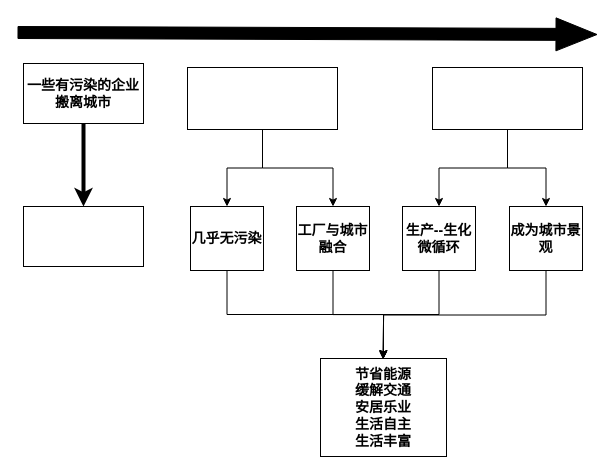
This 615x474 diagram has some shape labels left out. The shapes that lost their labels are listed below. From the top down, each one's centre as x and y in pixels, then its label:
(262,98): 许多大中企业分布在城市的中心
(507,98): 大量的中小型企业分布在在中小城镇
(83,236): 逐渐减少污染
